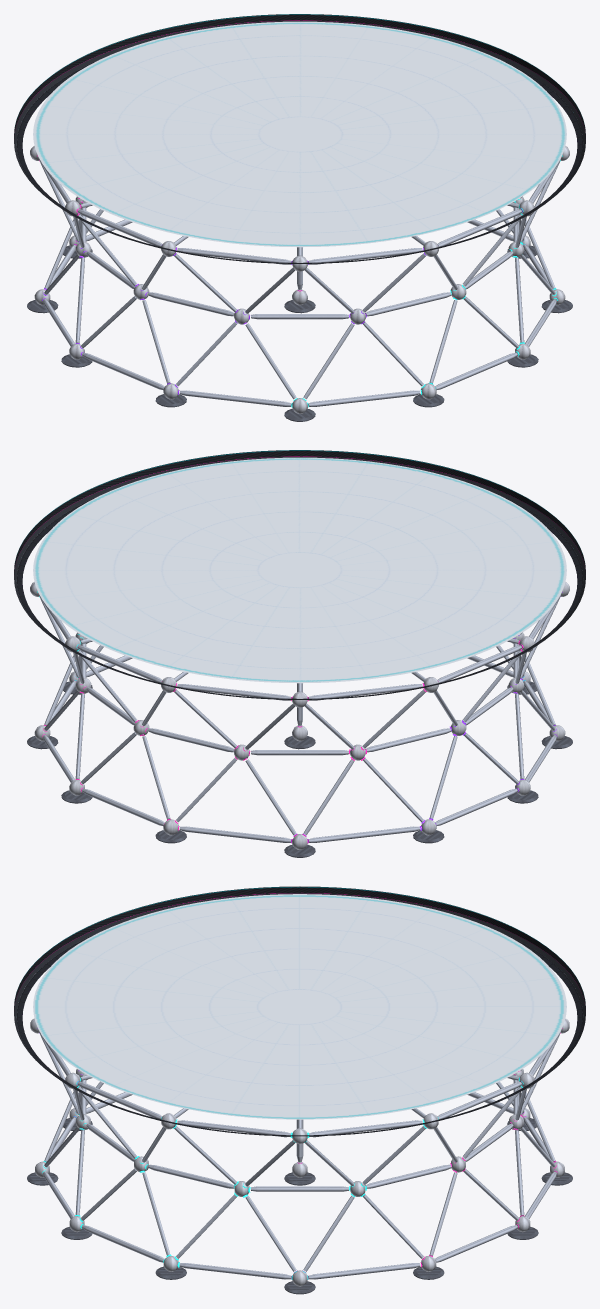
Rendered from cyber-stage.glb.
3 views of the same model, one above another, from view 1: azimuth 30°, elevation 25°; view 2: azimuth 150°, elevation 25°; view 3: azimuth 270°, elevation 25° (orthographic).
Parts seen in each view (by area): view 1: Mirror_Floor, Deck_Rim, Truss_Diagonals_Lower, Joint_Hubs, Truss_Chord_Bottom, Truss_Diagonals_Upper, Deck_Underside, Truss_Chord_Top, Truss_Chord_Mid, Foot_Plates; view 2: Mirror_Floor, Deck_Rim, Truss_Diagonals_Lower, Joint_Hubs, Truss_Chord_Bottom, Truss_Diagonals_Upper, Deck_Underside, Truss_Chord_Top, Truss_Chord_Mid, Foot_Plates; view 3: Mirror_Floor, Deck_Rim, Truss_Diagonals_Lower, Joint_Hubs, Truss_Chord_Bottom, Truss_Diagonals_Upper, Deck_Underside, Truss_Chord_Top, Truss_Chord_Mid, Foot_Plates.
Boxes of the visible parts, box(x1,y1,x2,y2) form: Mirror_Floor: box(33, 21, 566, 247); Deck_Rim: box(14, 14, 585, 195); Truss_Diagonals_Lower: box(44, 209, 555, 399); Joint_Hubs: box(30, 146, 569, 413); Truss_Chord_Bottom: box(43, 219, 556, 406); Truss_Diagonals_Upper: box(40, 162, 559, 313); Deck_Underside: box(17, 60, 582, 263); Truss_Chord_Top: box(38, 157, 561, 264); Truss_Chord_Mid: box(80, 202, 519, 319); Foot_Plates: box(27, 245, 572, 421); Mirror_Floor: box(33, 457, 566, 683); Deck_Rim: box(14, 450, 585, 631); Truss_Diagonals_Lower: box(44, 645, 555, 835); Joint_Hubs: box(30, 582, 569, 849); Truss_Chord_Bottom: box(43, 655, 556, 842); Truss_Diagonals_Upper: box(40, 598, 559, 749); Deck_Underside: box(17, 496, 582, 699); Truss_Chord_Top: box(38, 593, 561, 700); Truss_Chord_Mid: box(80, 638, 519, 755); Foot_Plates: box(27, 681, 572, 857); Mirror_Floor: box(33, 894, 566, 1119); Deck_Rim: box(14, 886, 585, 1067); Truss_Diagonals_Lower: box(44, 1081, 555, 1271); Joint_Hubs: box(30, 1018, 569, 1286); Truss_Chord_Bottom: box(43, 1092, 556, 1279); Truss_Diagonals_Upper: box(40, 1034, 559, 1186); Deck_Underside: box(17, 933, 582, 1136); Truss_Chord_Top: box(38, 1029, 561, 1137); Truss_Chord_Mid: box(80, 1075, 519, 1191); Foot_Plates: box(27, 1118, 572, 1294).
Bounding box in the file's own units: 6 × 2 × 6.
12 materials, 12 textured.
